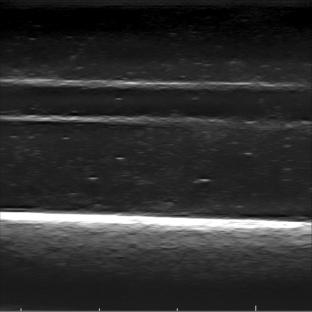vessel: (4, 79, 309, 128)
